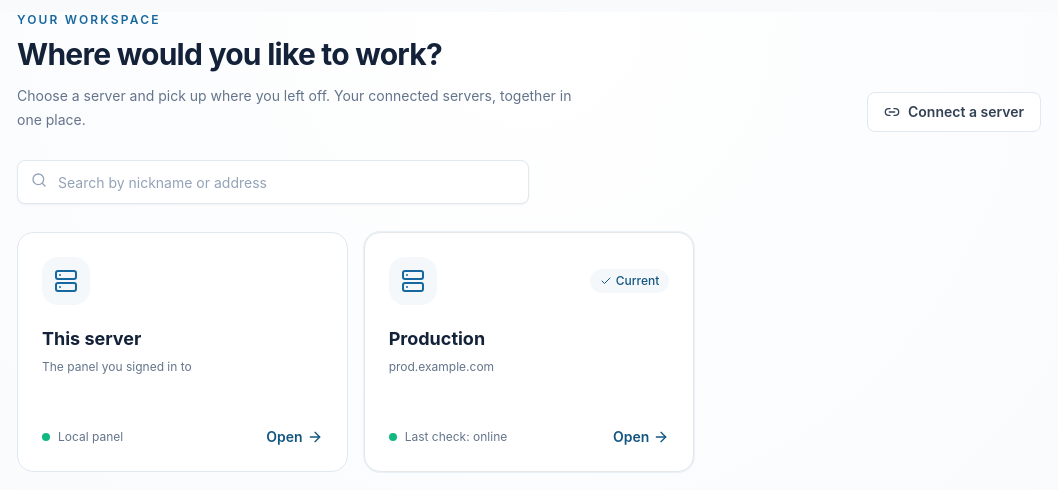
Test: server selection page › shows nicknames, searches servers, and preserves the selected section
Expected: the text "Current" is shown, x1=590 y1=269 x2=669 y2=293
Type "prod.example.com" into the field named "Search servers" at (273, 182), box x1=17 y1=160 x2=529 y2=204
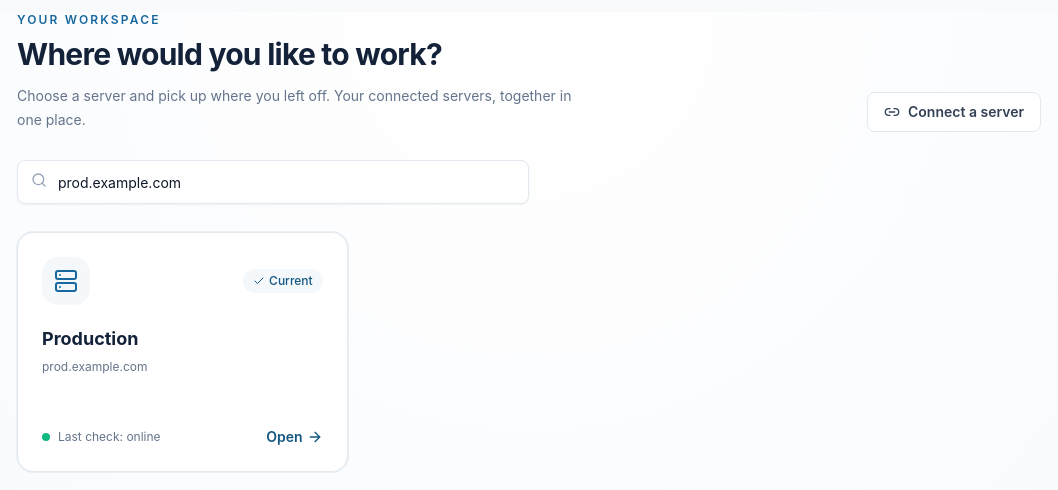
Expected: the link "Current Production prod.example.com Last check: online Open" is shown, x1=17 y1=232 x2=348 y2=472
Expected: the link "This server" is gone
